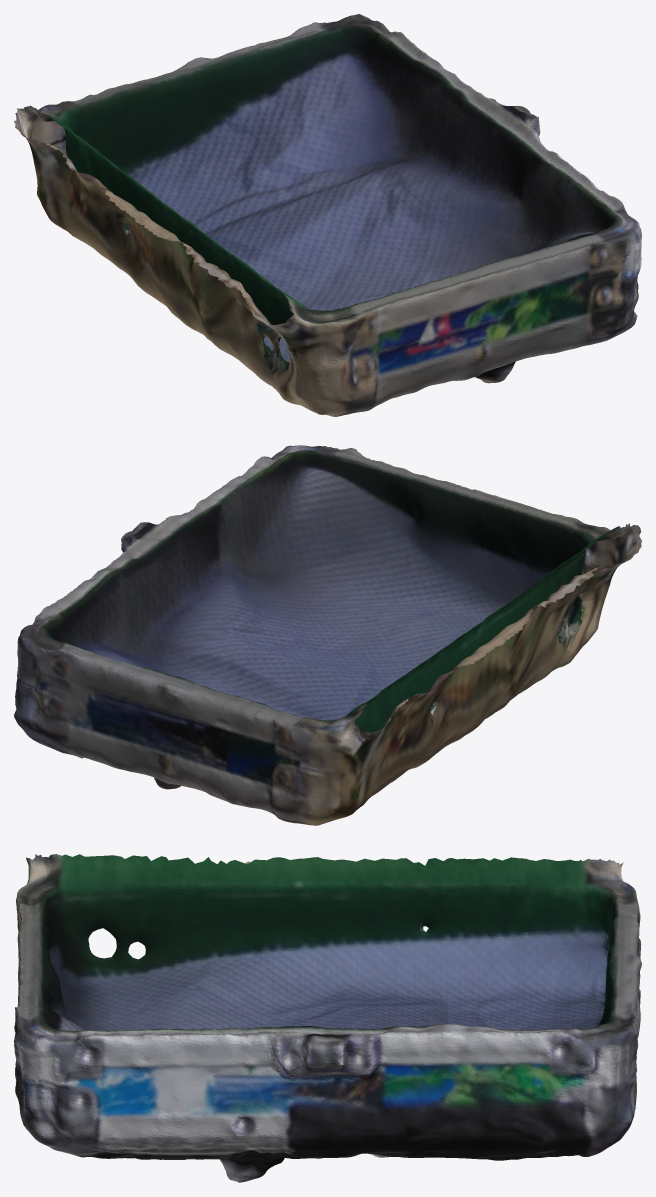
Rendered from treasurebox_top.dae.
The picture shows the model from 3 angles, top to bottom: view 1: azimuth 30°, elevation 25°; view 2: azimuth 150°, elevation 25°; view 3: azimuth 270°, elevation 25°; orthographic projection. The views are drawn at different scales.
Visible parts, largest first — view 1: treasurebox_cap; view 2: treasurebox_cap; view 3: treasurebox_cap.
Boxes of the visible parts, x1=… form: treasurebox_cap: x1=14, y1=14, x2=641, y2=416; treasurebox_cap: x1=14, y1=445, x2=641, y2=825; treasurebox_cap: x1=14, y1=854, x2=641, y2=1182.
Bounding box in the file's own units: 0.1418 × 0.1824 × 0.0594.
Materials: 2 (1 with a texture image).
